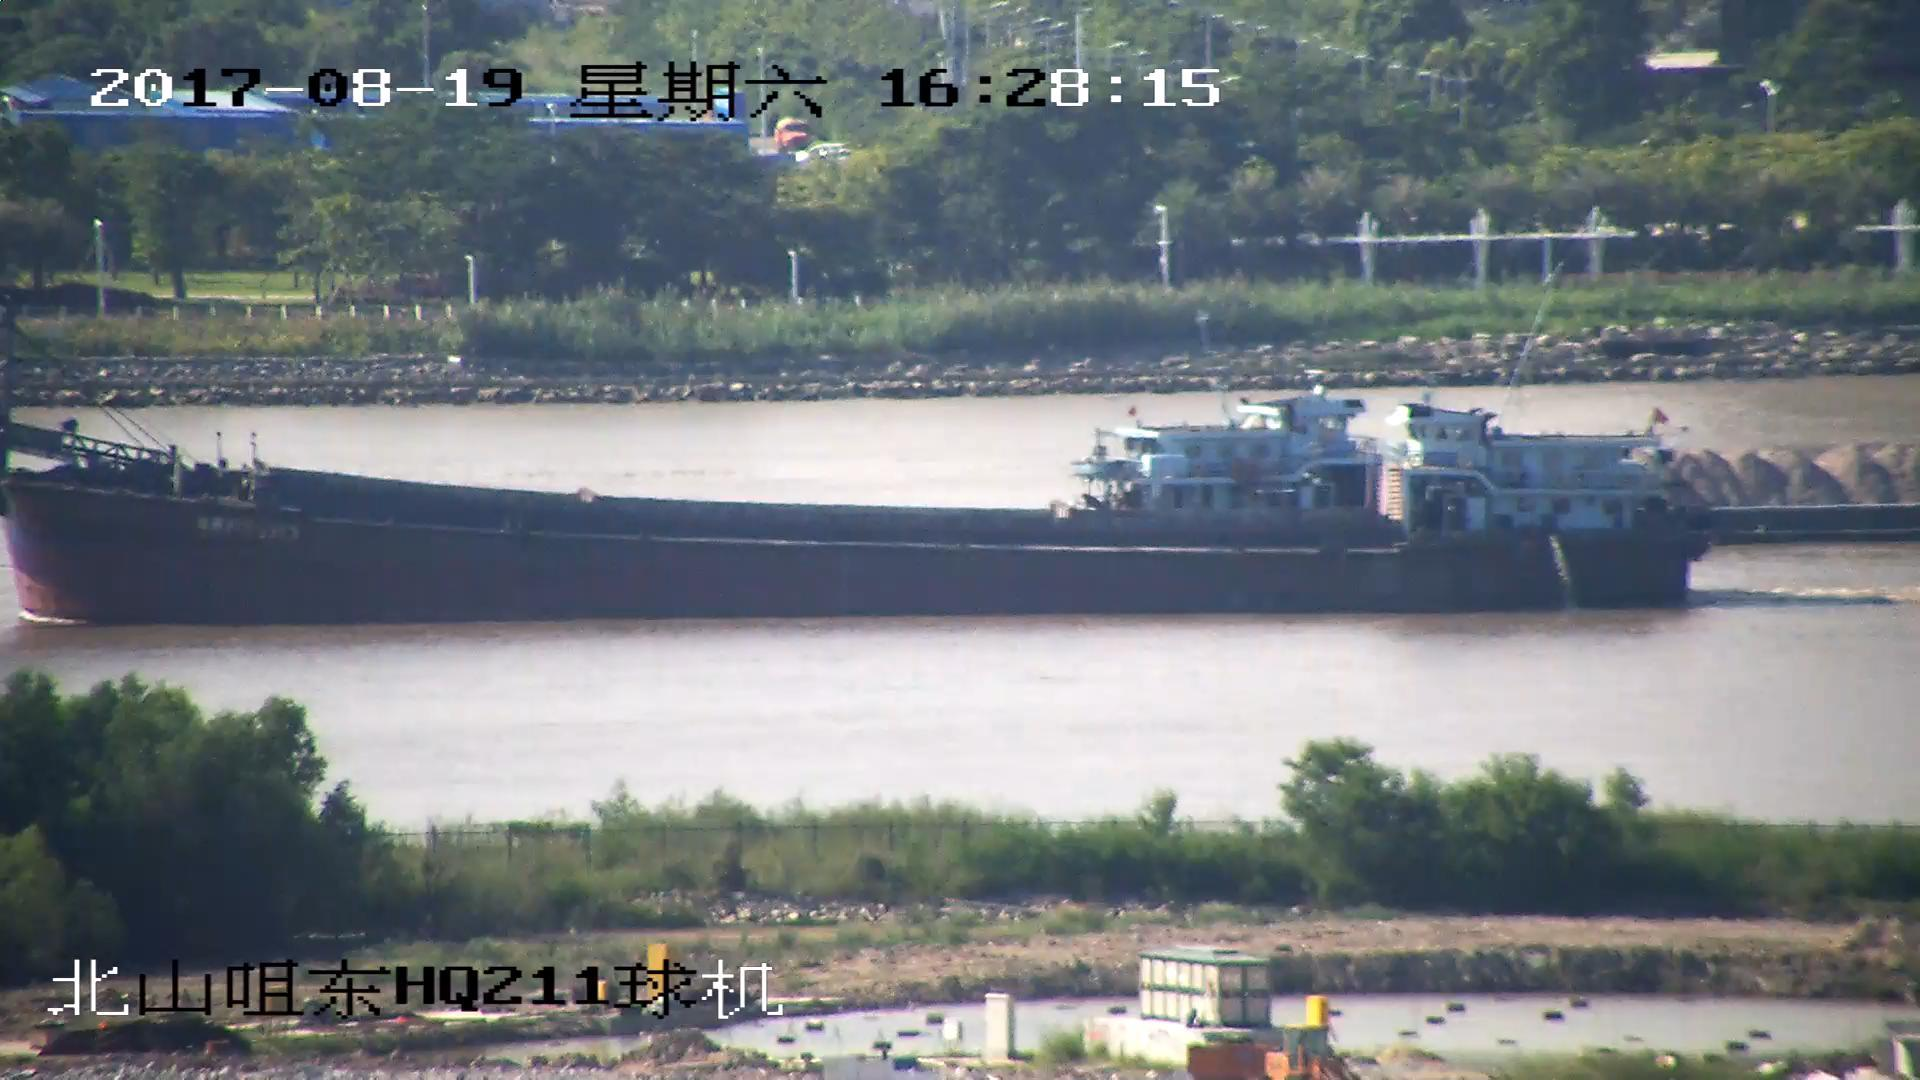Ship: (3, 392, 1702, 609), (1072, 400, 1920, 547)
